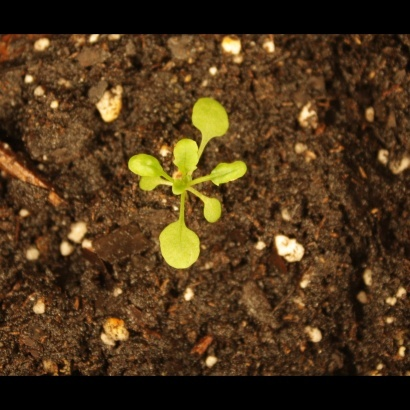leaf: (154, 220, 206, 272), (189, 92, 233, 139), (207, 159, 252, 188), (171, 137, 202, 179), (127, 151, 169, 179), (200, 195, 227, 227), (137, 173, 160, 196), (170, 177, 193, 200)
